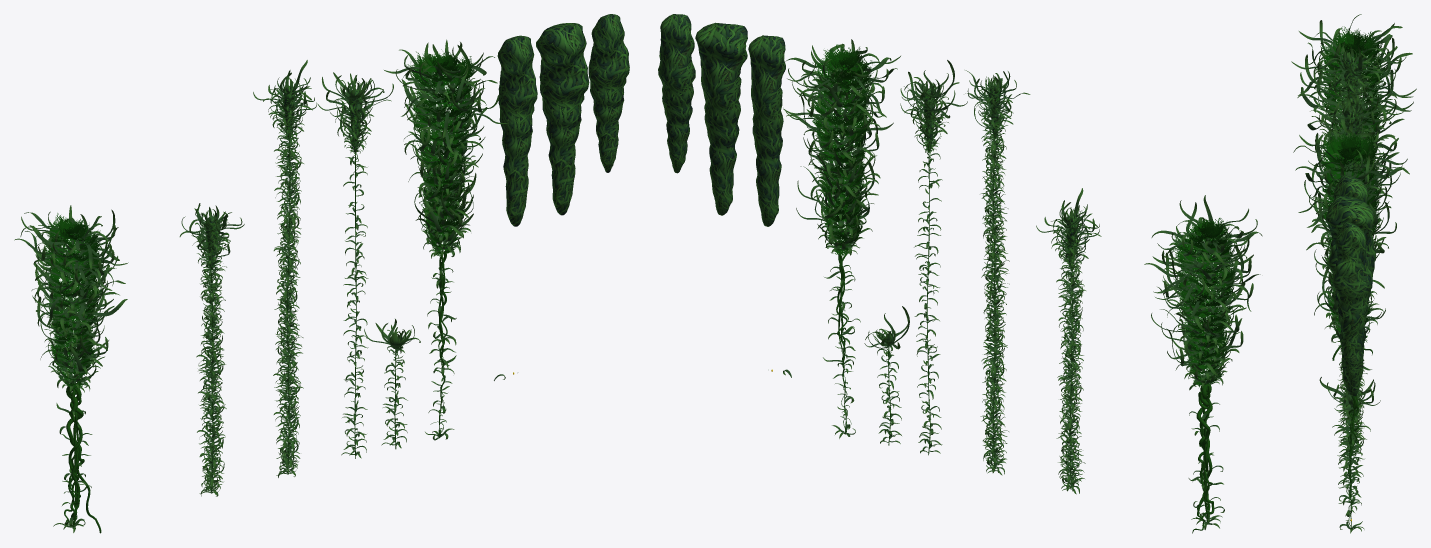
File: Creepvine Pack better.fbx
3 renders of one model, left to right at view 1: azimuth 30°, elevation 25°; view 2: azimuth 150°, elevation 25°; view 3: azimuth 270°, elevation 25°, orthographic. The views are drawn at different scales.
Parts seen in each view (by area): view 1: Kelp_trunk1.001, Coral_reef_kelp_02_short_stem1.001, kelp_dense_stalk1.001, kelp_core #82617, Kelp_trunk1, kelp_dense_stalk1 #85379.001, kelp_core #82891, Coral_reef_kelp_02_short_stem1, kelp_core, Young_kelp_stalk_02.001, Young_kelp_stalk_05.001; view 2: Kelp_trunk1.001, Coral_reef_kelp_02_short_stem1.001, kelp_dense_stalk1.001, kelp_core #82617, Kelp_trunk1, kelp_dense_stalk1 #85379.001, Coral_reef_kelp_02_short_stem1, kelp_core #82891, kelp_core, Young_kelp_stalk_02.001, Young_kelp_stalk_05.001; view 3: Kelp_trunk1.001, Coral_reef_kelp_02_short_stem1.001, kelp_core, Kelp_trunk1, Coral_reef_kelp_02_short_stem1, kelp_core #82617, kelp_dense_stalk1.001, Young_kelp_stalk_02.001, Young_kelp_stalk_05.001, kelp_core #82891, kelp_dense_stalk1.002, kelp_dense_stalk1 #85379.001.
Part boxes in pixels (<box>): Kelp_trunk1.001: <box>384,39,508,440</box>; Coral_reef_kelp_02_short_stem1.001: <box>14,205,128,533</box>; kelp_dense_stalk1.001: <box>253,60,316,477</box>; kelp_core #82617: <box>536,23,589,215</box>; Kelp_trunk1: <box>406,49,476,257</box>; kelp_dense_stalk1 #85379.001: <box>179,203,244,496</box>; kelp_core #82891: <box>497,35,537,226</box>; Coral_reef_kelp_02_short_stem1: <box>41,213,106,391</box>; kelp_core: <box>588,14,629,172</box>; Young_kelp_stalk_02.001: <box>317,72,393,458</box>; Young_kelp_stalk_05.001: <box>364,319,420,449</box>; Kelp_trunk1.001: <box>783,39,900,438</box>; Coral_reef_kelp_02_short_stem1.001: <box>1144,195,1262,533</box>; kelp_dense_stalk1.001: <box>965,70,1030,475</box>; kelp_core #82617: <box>695,22,747,215</box>; Kelp_trunk1: <box>811,44,873,257</box>; kelp_dense_stalk1 #85379.001: <box>1036,188,1101,494</box>; Coral_reef_kelp_02_short_stem1: <box>1173,218,1236,387</box>; kelp_core #82891: <box>748,35,785,226</box>; kelp_core: <box>658,14,695,173</box>; Young_kelp_stalk_02.001: <box>900,60,967,455</box>; Young_kelp_stalk_05.001: <box>864,306,909,445</box>; Kelp_trunk1.001: <box>1293,122,1409,533</box>; Coral_reef_kelp_02_short_stem1.001: <box>1291,14,1416,360</box>; kelp_core: <box>1332,222,1372,386</box>; Kelp_trunk1: <box>1319,132,1382,338</box>; Coral_reef_kelp_02_short_stem1: <box>1316,26,1393,184</box>; kelp_core #82617: <box>1325,196,1376,396</box>; kelp_dense_stalk1.001: <box>1315,42,1386,455</box>; Young_kelp_stalk_02.001: <box>1310,89,1387,489</box>; Young_kelp_stalk_05.001: <box>1319,377,1380,510</box>; kelp_core #82891: <box>1333,175,1371,233</box>; kelp_dense_stalk1.002: <box>1343,56,1357,102</box>; kelp_dense_stalk1 #85379.001: <box>1321,118,1388,417</box>.
Size of what is drawn, in the model's own units: 73.71 by 48.52 by 13.22.
